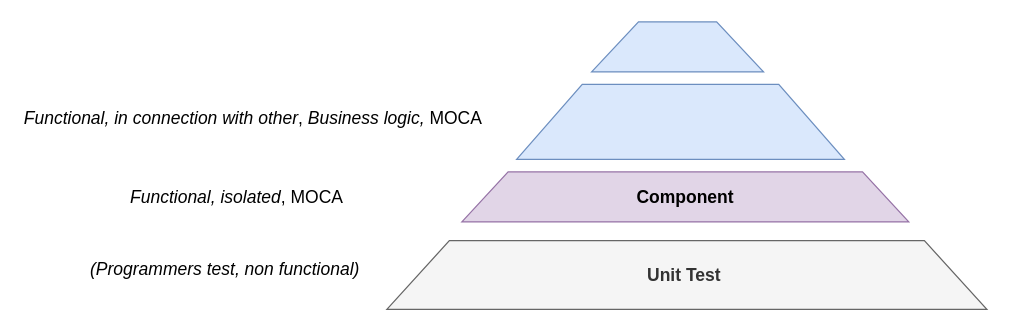
Some shapes in this 1009 by 331 pixel diagram are drawn without their labels. Here are the shapes that lost their labels. From the top down, the box of each, then its label:
(590, 21, 764, 72): UI
(515, 83, 844, 159): Integration
